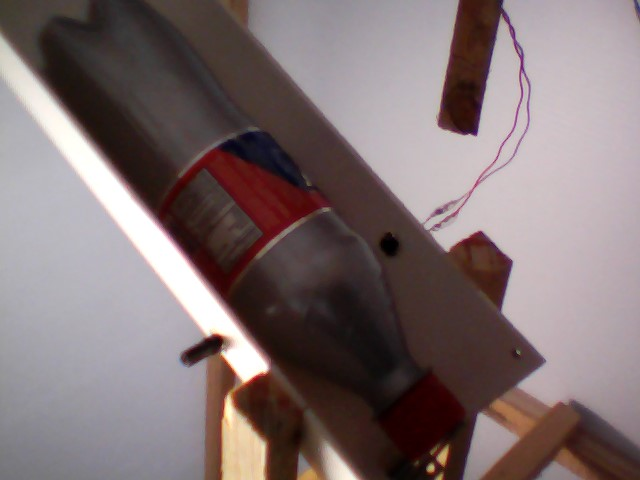plastico: (31, 1, 473, 463)
